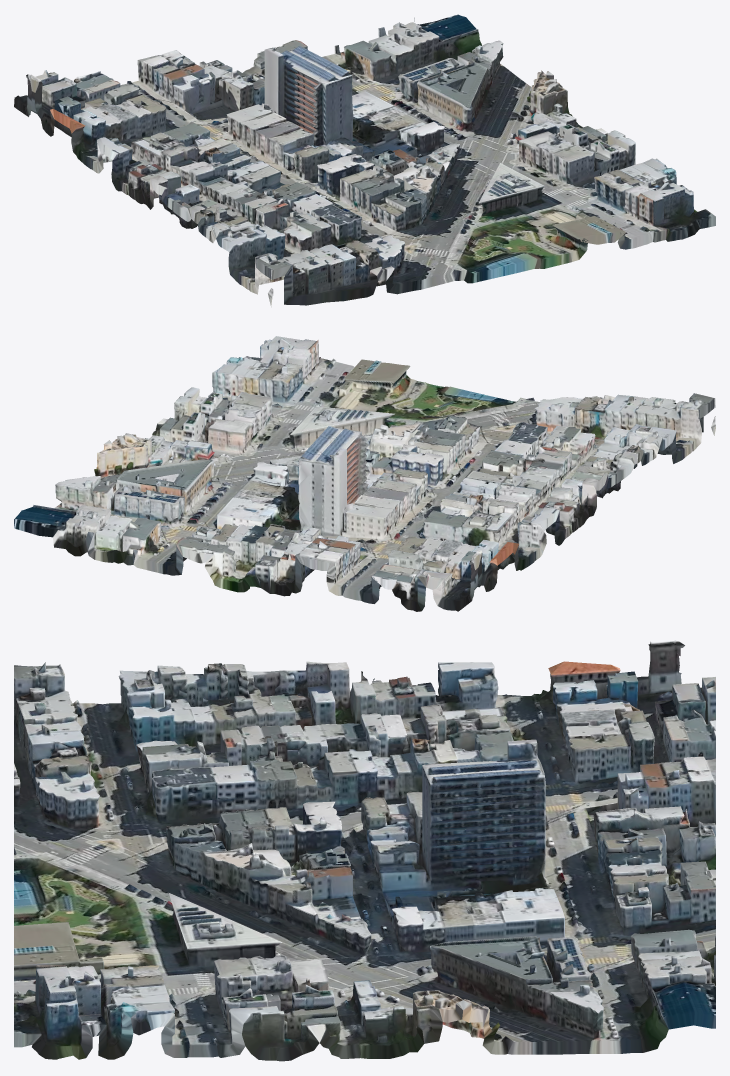
Rendered from z17-20966-50649-h0-yup-uvflip-v3-world.glb.
3 views of the same model, one above another, from view 1: azimuth 30°, elevation 25°; view 2: azimuth 150°, elevation 25°; view 3: azimuth 270°, elevation 25° (orthographic). The views are drawn at different scales.
Size of the model in its own units: 242 by 56.96 by 243.
1 material, 1 textured.
